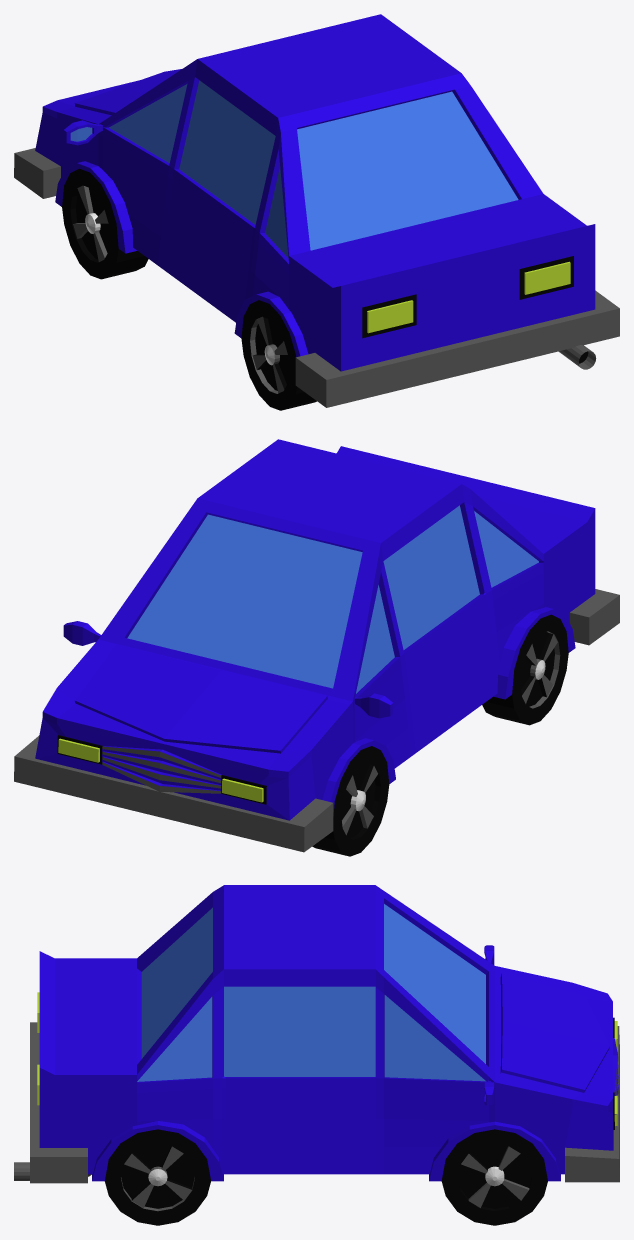
File: blue_car.gltf
3 renders of one model, top to bottom at view 1: azimuth 30°, elevation 25°; view 2: azimuth 150°, elevation 25°; view 3: azimuth 270°, elevation 25°, orthographic. The views are drawn at different scales.
Visible parts, largest first — view 1: Car2; view 2: Car2; view 3: Car2.
Boxes of the visible parts, bbox=[...] form: Car2: bbox=[14, 14, 619, 410]; Car2: bbox=[14, 439, 619, 856]; Car2: bbox=[14, 885, 619, 1225].
Size of the model in its own units: 0.7311 by 0.5396 by 1.25.
